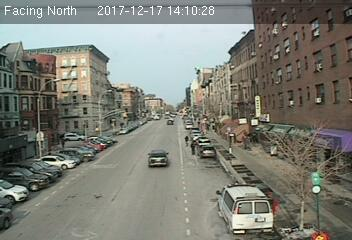car: (146, 149, 170, 167), (199, 146, 217, 158)
police: (216, 179, 274, 237)
